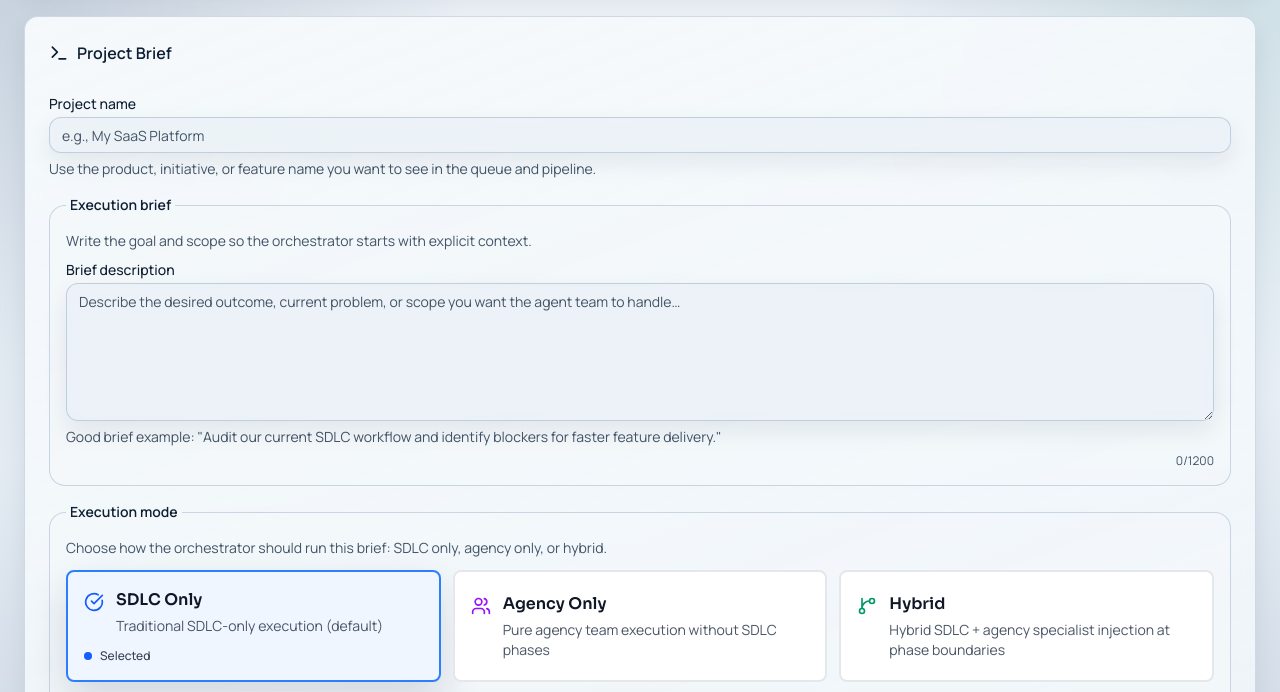
CommandsPage › submit button stays disabled until project name and brief are both filled
This screenshot has width=1280, height=692.
(page scrolled)
Type "Test project" into the text box labelled "Brief description" at point(640, 352), box [66, 283, 1214, 421]
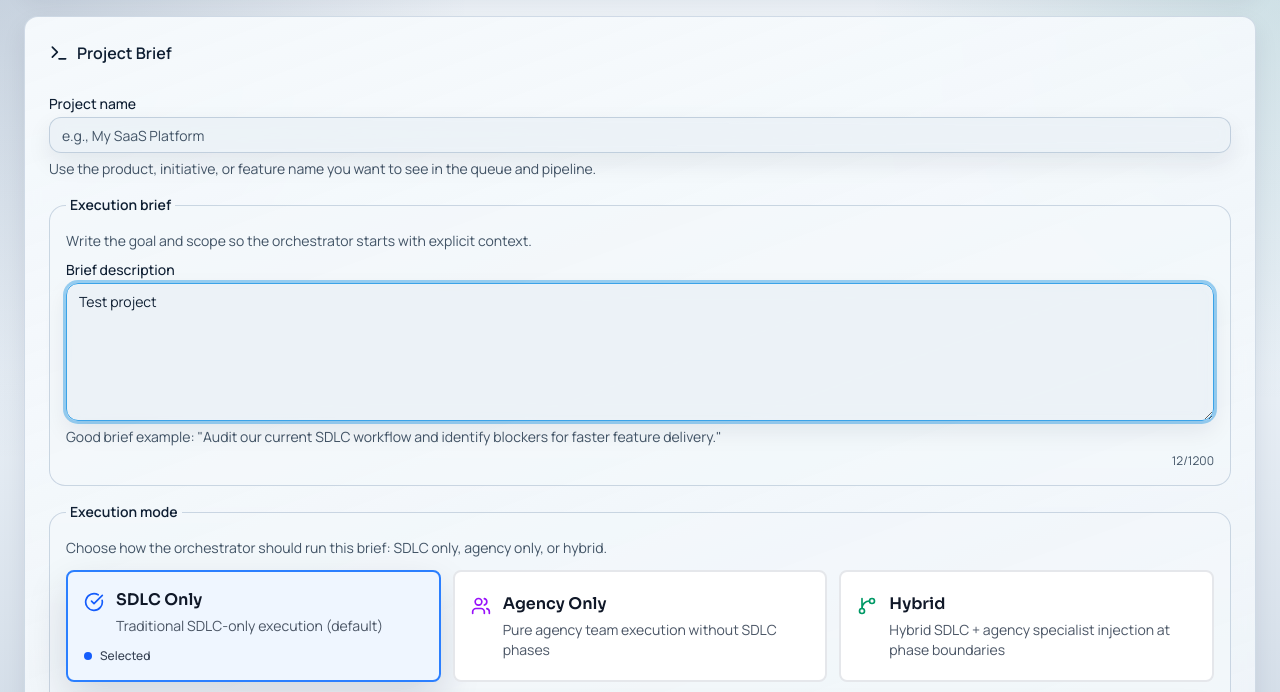
Type "My project" into the field labelled "Project name" at point(640, 135), box [49, 117, 1231, 153]
(page scrolled)
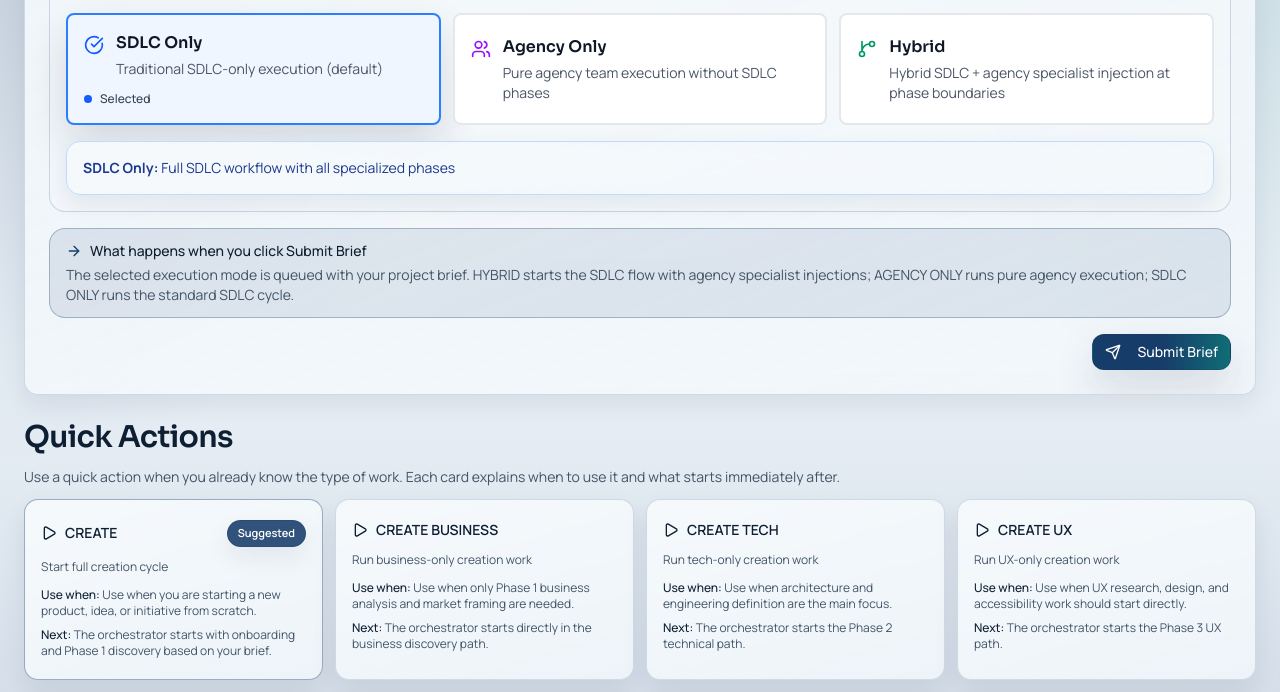
Check: the button "Submit Brief" is enabled, box [1092, 334, 1231, 370]
